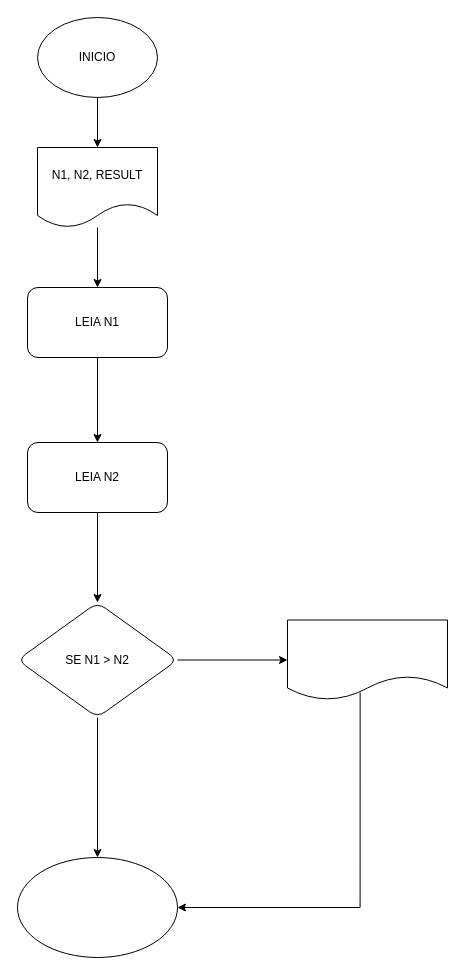
The diagram is 465 pixels wide and 975 high, and some of its shapes have lost their labels. Here are the shapes that lost their labels. From the top down, the centre of each, then its label:
point 367,659: "N1 É PAR"
point 97,907: FIM
